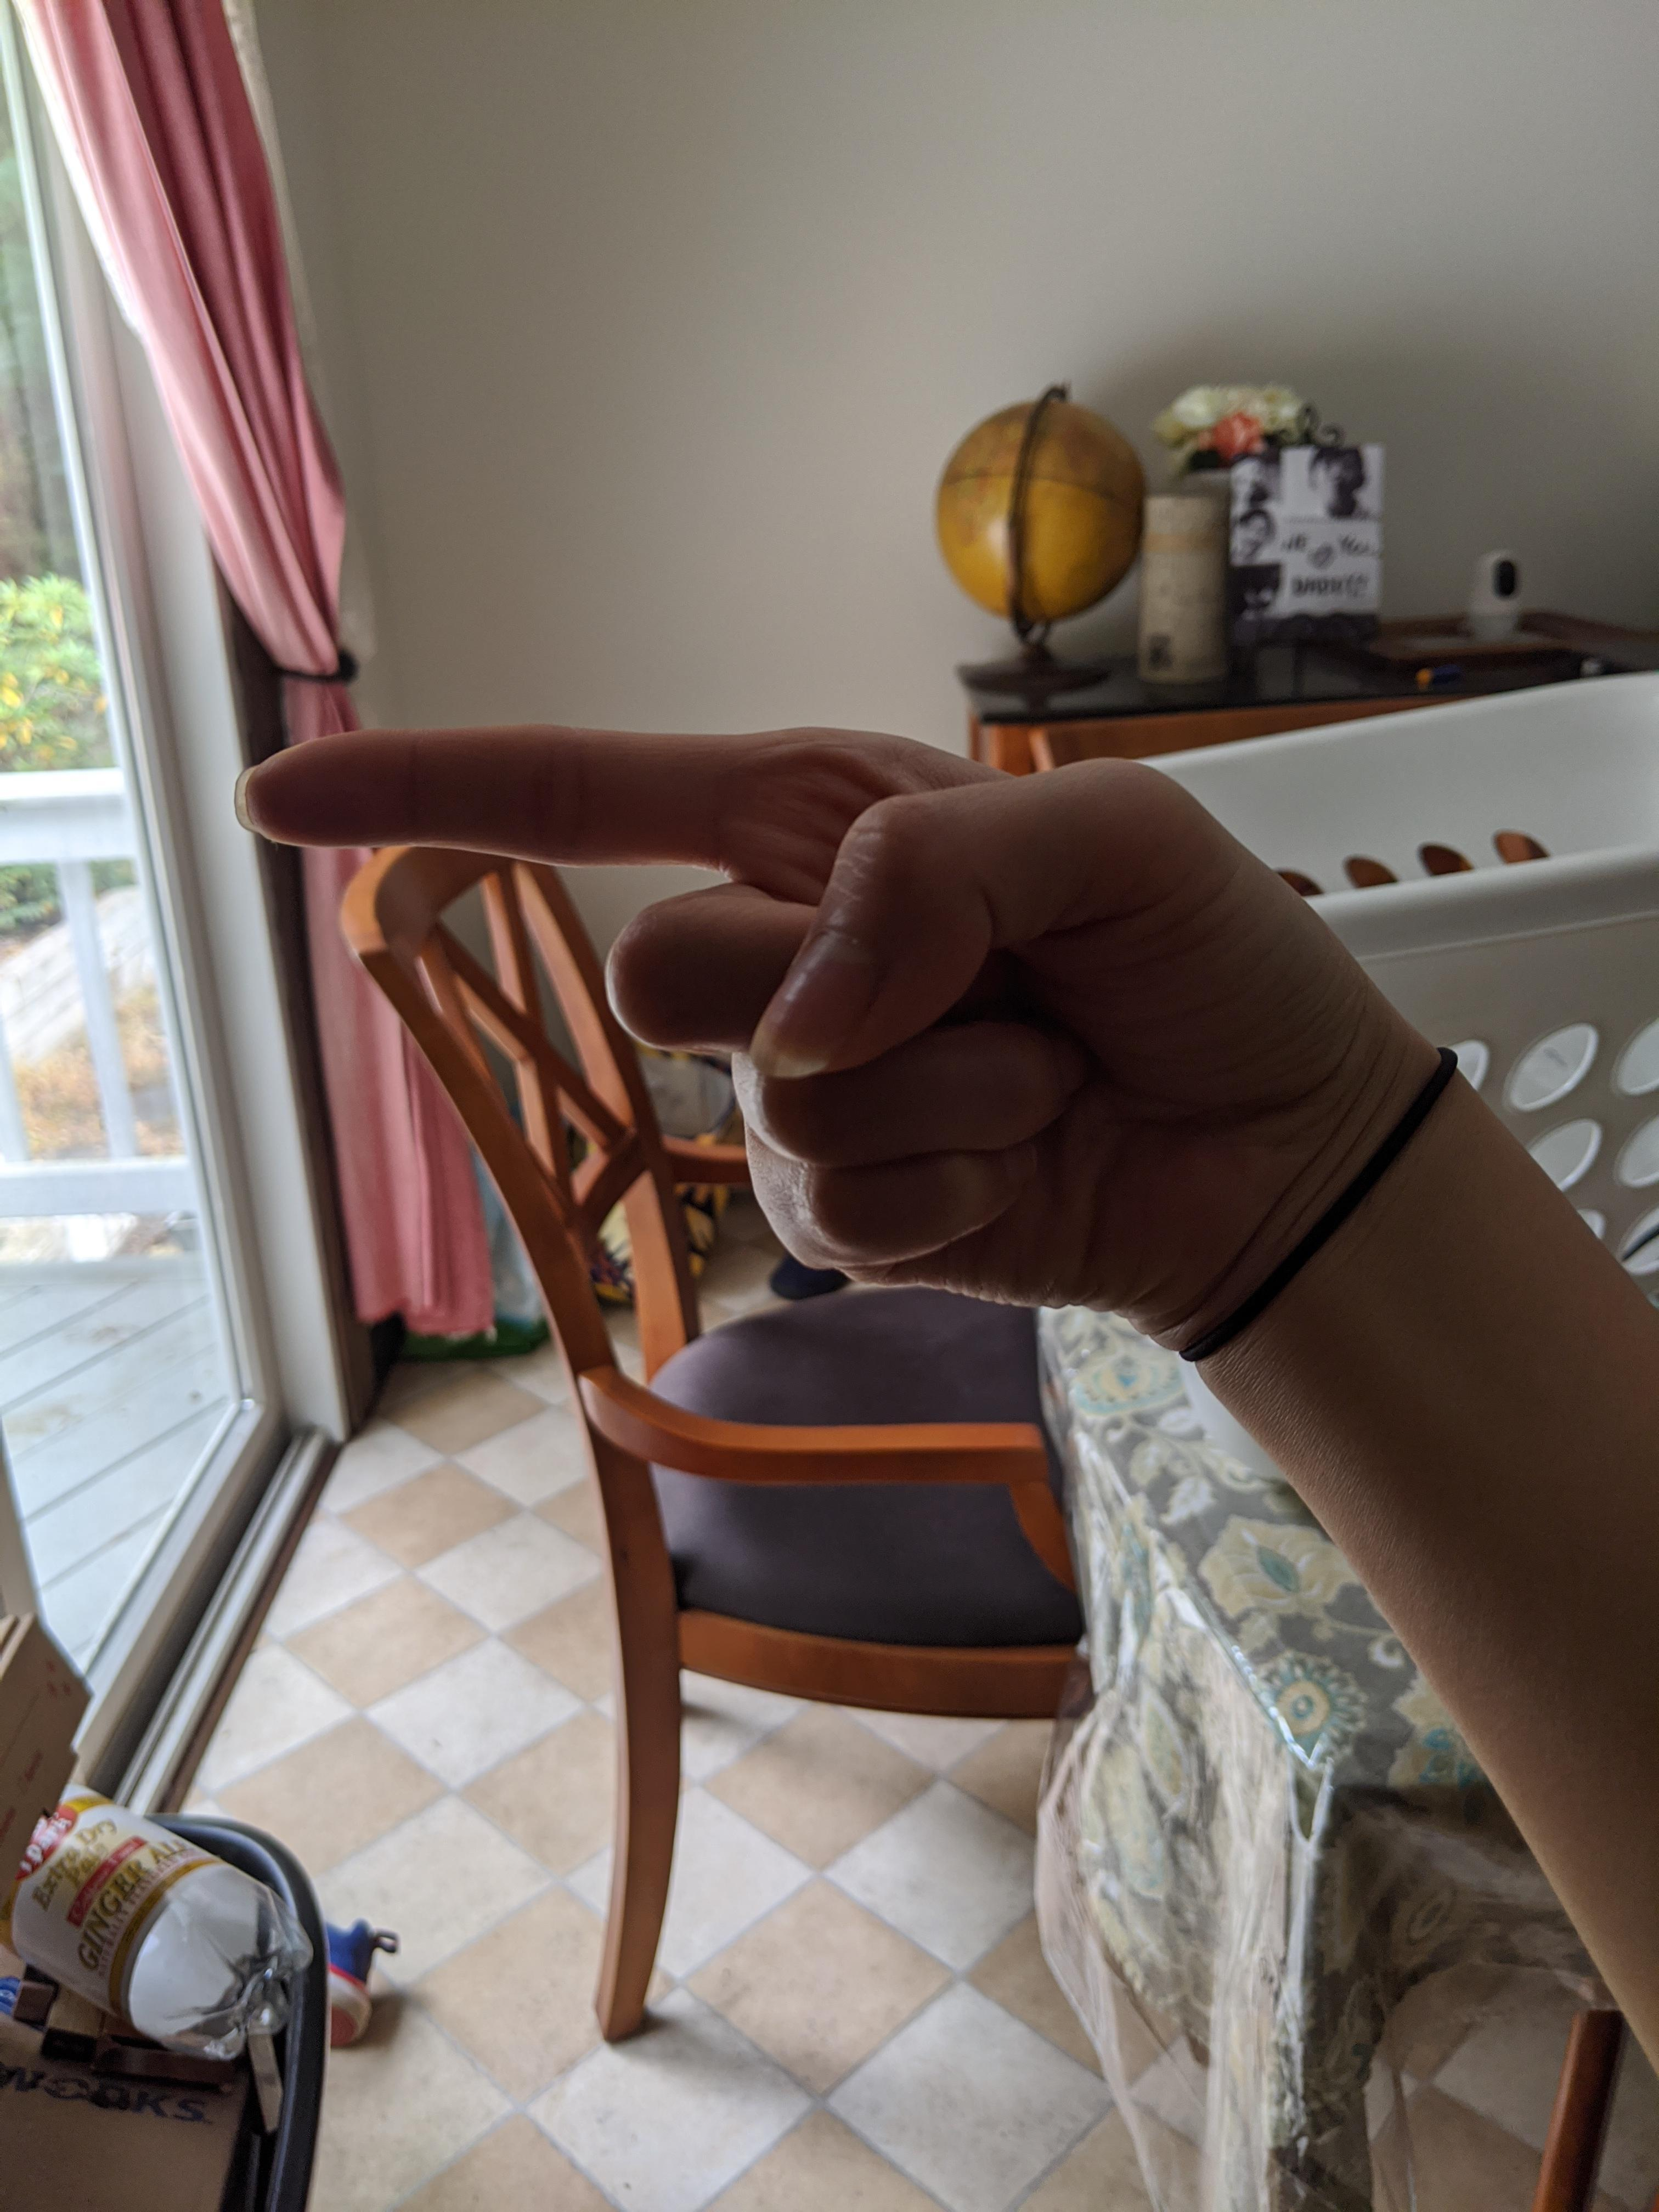G: (214, 707, 1404, 1329)
